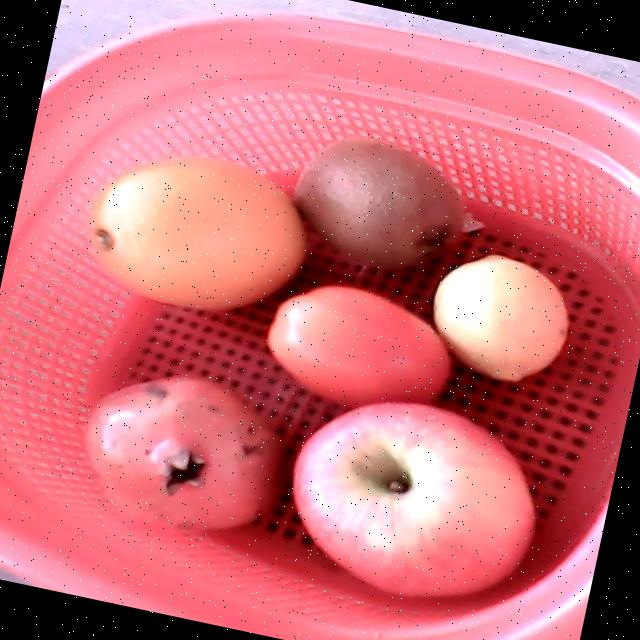apple: (290, 400, 535, 597)
kiwi: (293, 137, 464, 268)
lemon: (432, 252, 570, 381)
orange: (86, 155, 305, 308)
pomegranate: (83, 375, 281, 534)
tomato: (267, 284, 452, 406)
